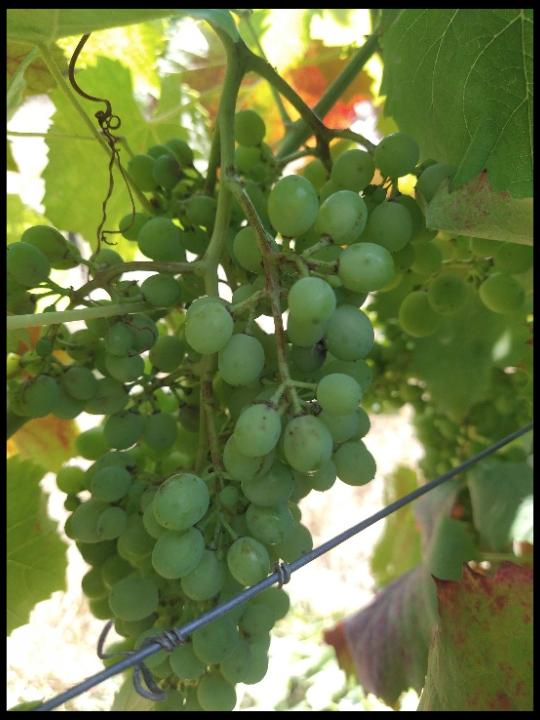grape: (12, 110, 470, 708)
